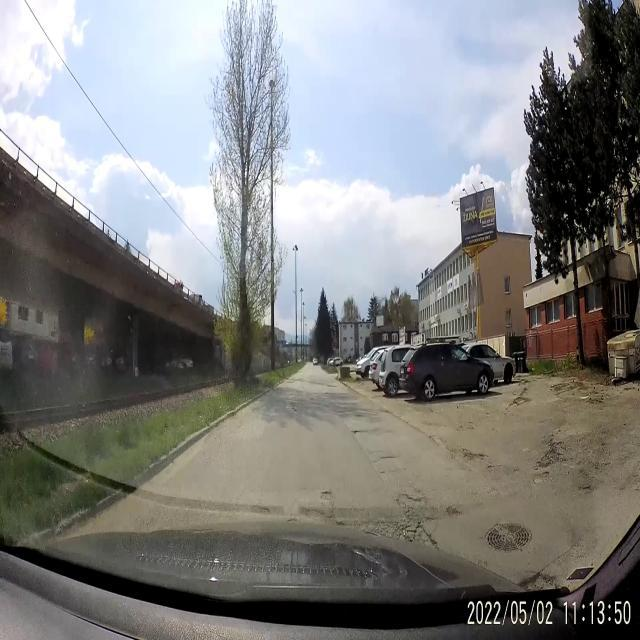Manhole: (486, 514, 534, 557)
Pothole: (358, 515, 438, 547), (530, 434, 569, 470), (396, 487, 432, 512), (348, 422, 380, 440), (302, 503, 332, 521), (458, 446, 488, 464), (443, 500, 465, 520), (249, 501, 271, 518), (320, 485, 333, 505), (285, 512, 301, 524), (378, 453, 399, 461), (334, 518, 346, 530)
